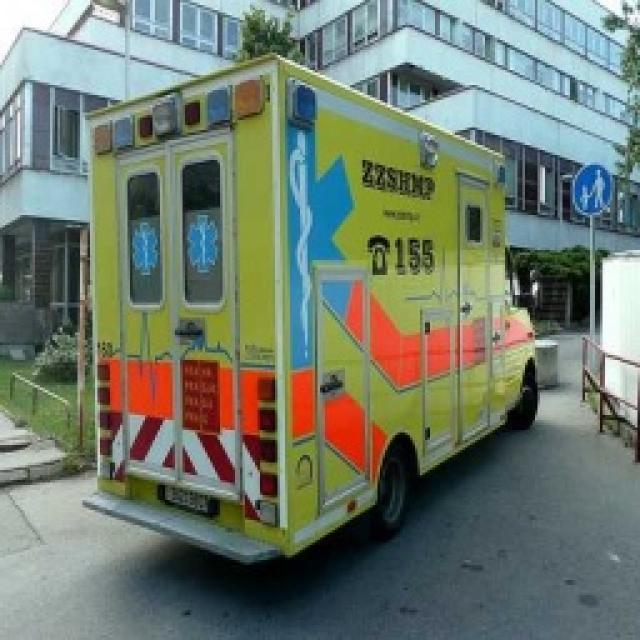ambulance: (90, 50, 558, 572), (582, 247, 640, 455)
